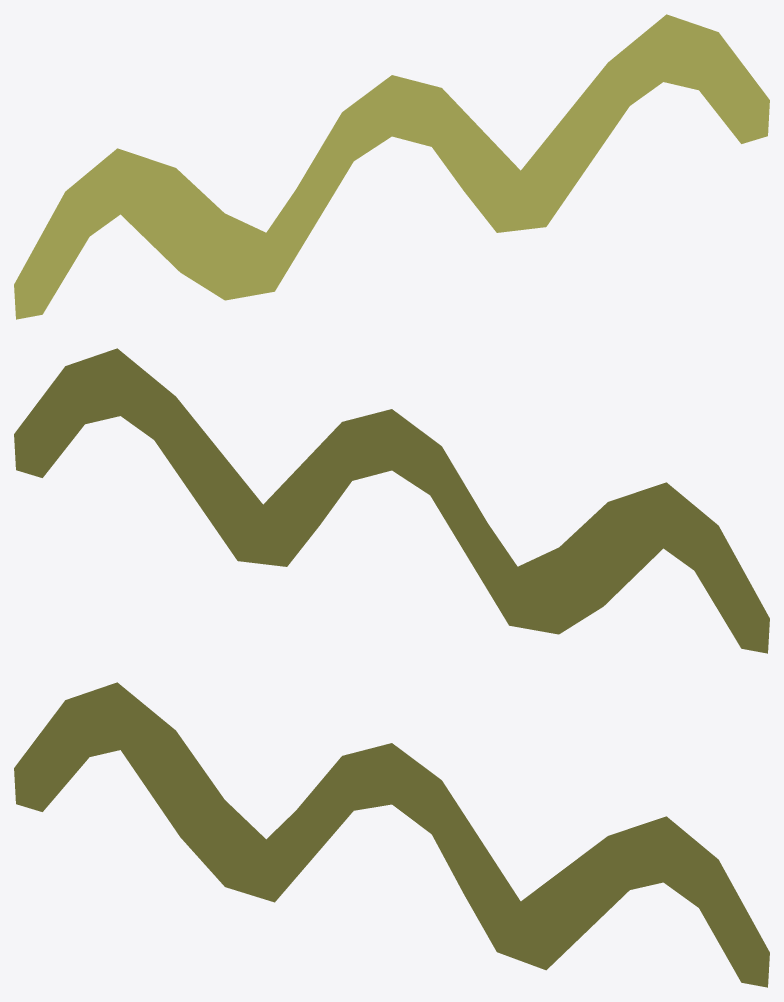
The model's file is neonCavePaintingSquiggleYellow.glb.
3 views of the same model, one above another, from view 1: azimuth 30°, elevation 25°; view 2: azimuth 150°, elevation 25°; view 3: azimuth 330°, elevation 25° (orthographic).
Parts seen in each view (by area): view 1: neonCavePaintingSquiggleYellow; view 2: neonCavePaintingSquiggleYellow; view 3: neonCavePaintingSquiggleYellow.
Boxes of the visible parts, x1,y1,x2,y2 form: neonCavePaintingSquiggleYellow: (14,14,769,319); neonCavePaintingSquiggleYellow: (14,348,769,653); neonCavePaintingSquiggleYellow: (14,682,769,987).
Bounding box in the file's own units: 0.2954 × 0.0709 × 9.54e-07.
